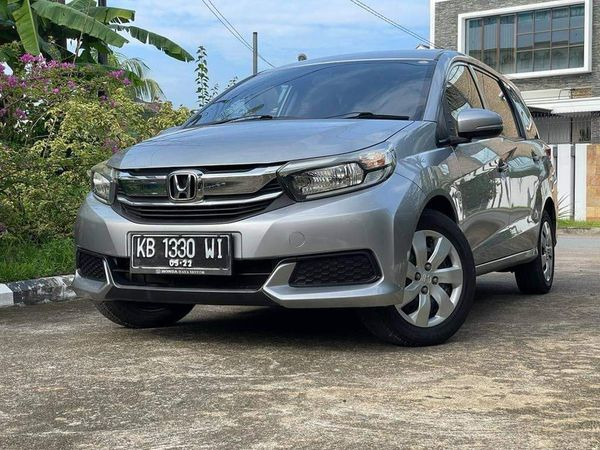plate: (130, 232, 234, 273)
